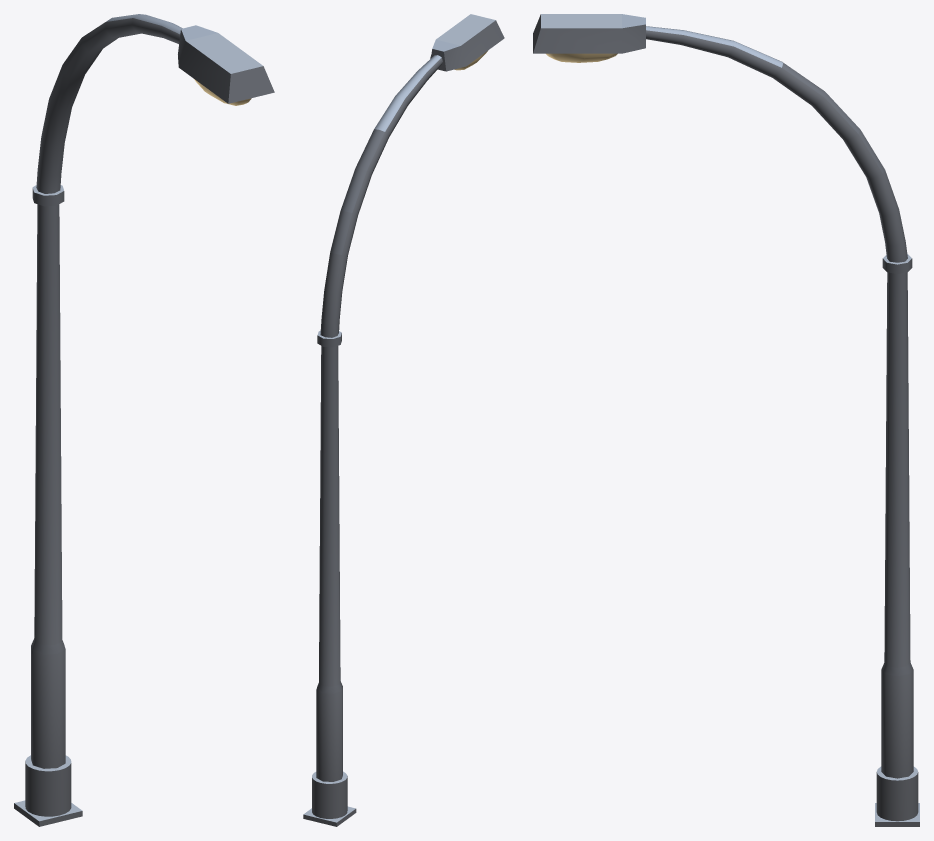
File: lamp_street.glb
3 views of the same model, side by side, from view 1: azimuth 30°, elevation 25°; view 2: azimuth 150°, elevation 25°; view 3: azimuth 270°, elevation 25° (orthographic). The views are drawn at different scales.
Visible parts, largest first — view 1: Prop; view 2: Prop; view 3: Prop.
Part boxes in pixels (box(x1,y1,x2,y2)): Prop: box(14, 14, 274, 826); Prop: box(303, 14, 504, 826); Prop: box(533, 14, 919, 826).
Size of the model in its own units: 0.3643 by 6.64 by 2.93.
